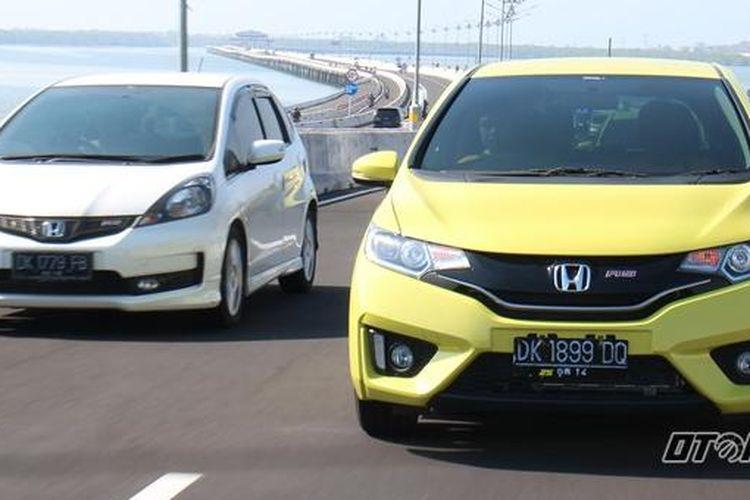plate: (513, 336, 631, 379), (13, 250, 94, 281)
